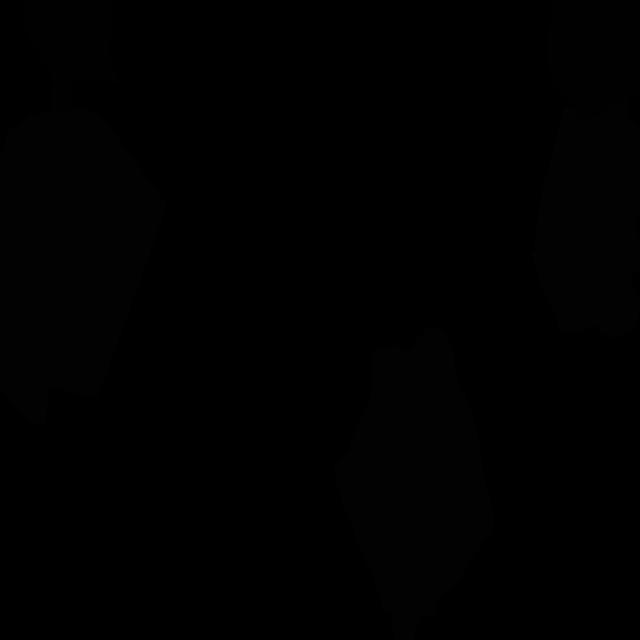cardboard: (0, 106, 166, 426), (334, 326, 494, 640), (534, 106, 640, 279), (531, 223, 640, 340), (584, 99, 640, 224)
rigid_plastic: (546, 0, 640, 119), (24, 0, 121, 111)
